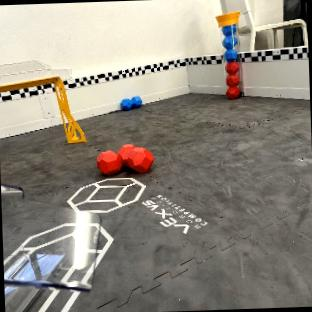Goal: (1, 184, 108, 293), (0, 61, 86, 143)
Loader: (217, 13, 239, 98)
V5_BLUE: (222, 24, 237, 60), (121, 96, 142, 110)
V5_RED: (96, 143, 153, 176), (227, 61, 239, 98)
